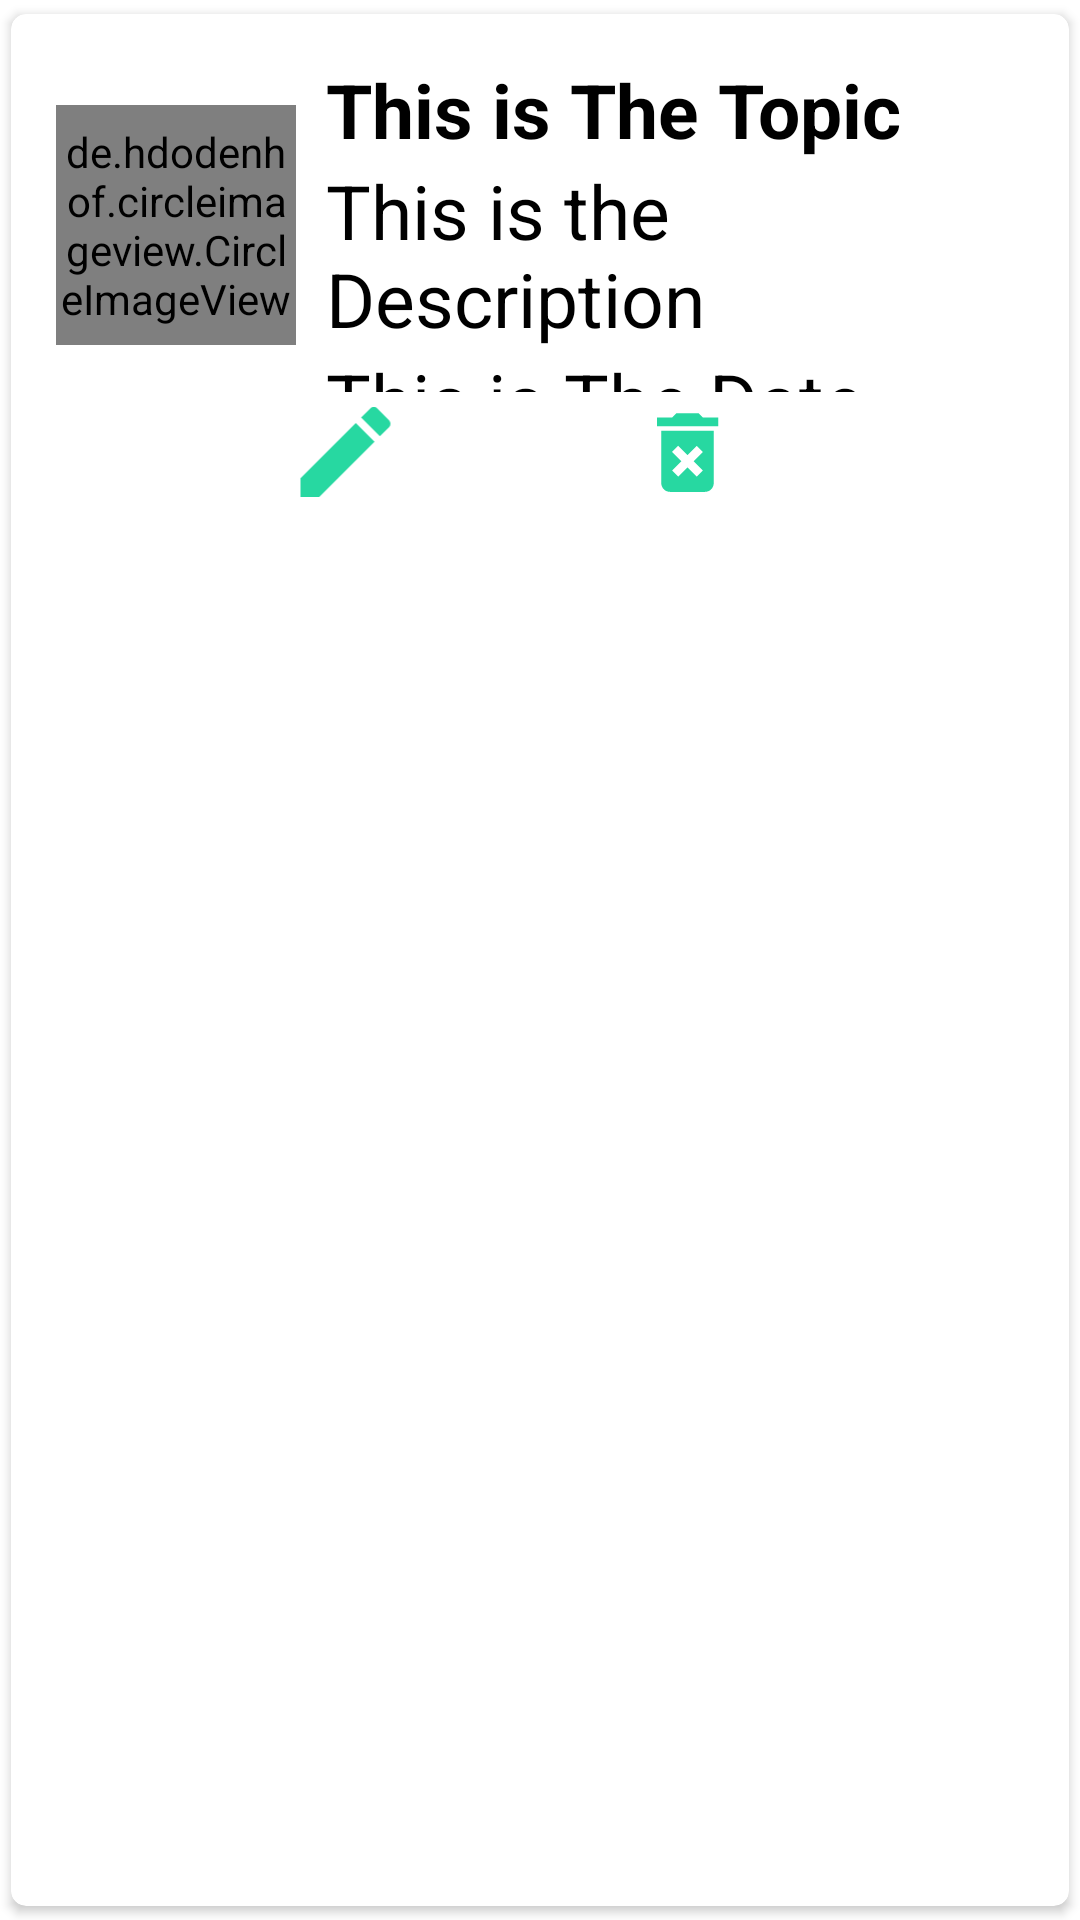

Point at icon controls on the screen. Image size 1080x1920, points as point (x, y).
delete forever: point (688, 452)
editbtn: point (345, 452)
